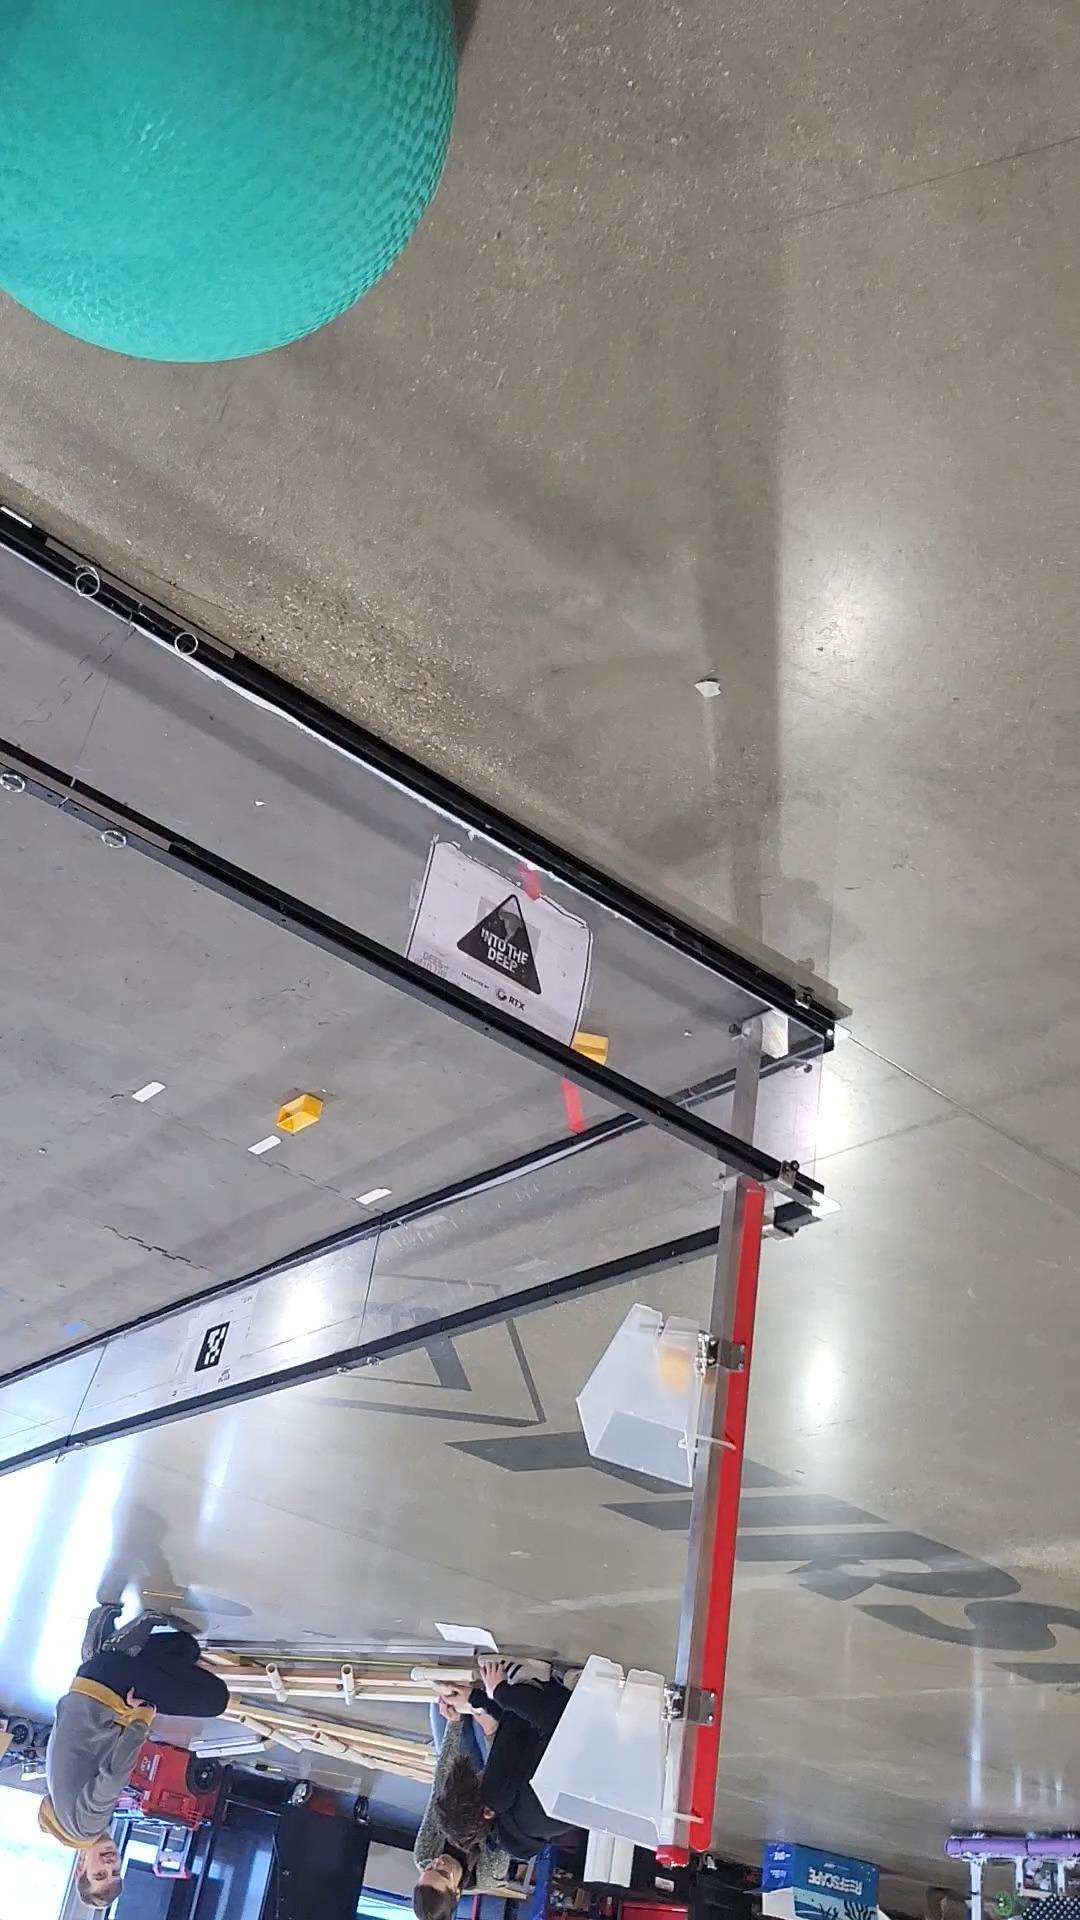algae: (0, 0, 458, 363)
